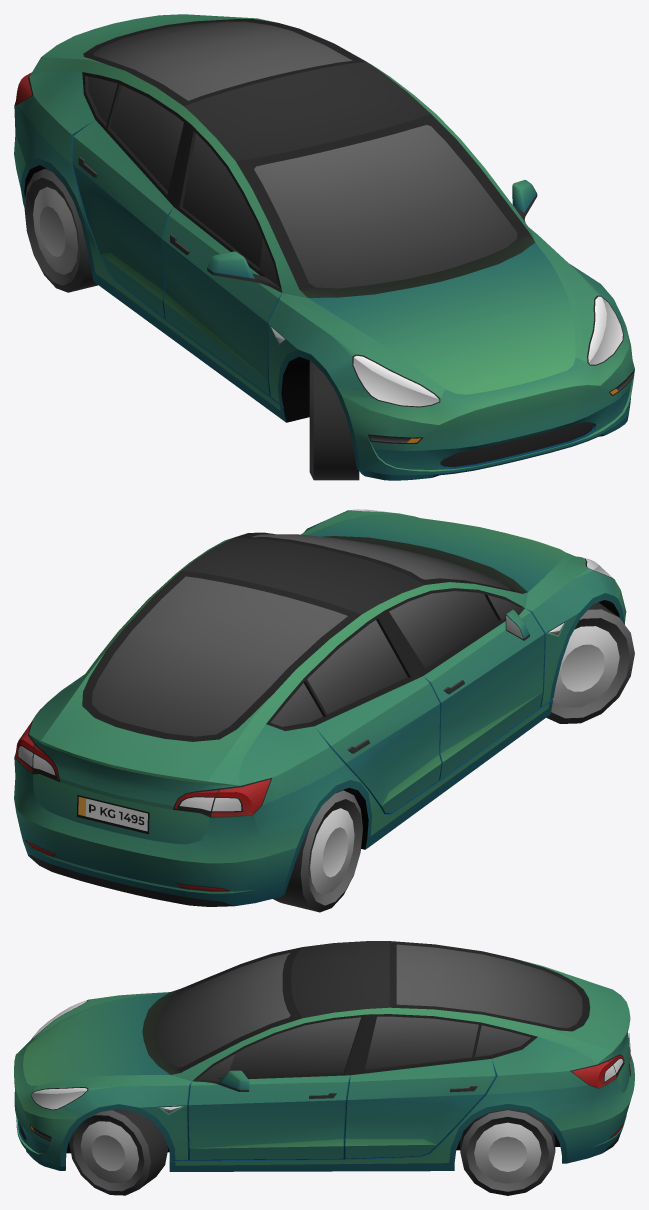
Rendered from tesla-model-3-thcyrax.glb.
3 renders of one model, top to bottom at view 1: azimuth 30°, elevation 25°; view 2: azimuth 150°, elevation 25°; view 3: azimuth 270°, elevation 25°, orthographic. The views are drawn at different scales.
Visible parts, largest first — view 1: Body.001, RRW.001, FRW.001; view 2: Body.001, FRW.001, RRW.001, Registration Plate.001; view 3: Body.001, RLW.001, FLW.001.
Boxes of the visible parts, <box> form: Body.001: <box>14,14,634,480</box>; RRW.001: <box>24,168,97,292</box>; FRW.001: <box>309,361,359,480</box>; Body.001: <box>14,509,626,906</box>; FRW.001: <box>546,602,634,723</box>; RRW.001: <box>273,790,362,912</box>; Registration Plate.001: <box>76,795,149,834</box>; Body.001: <box>14,941,634,1171</box>; RLW.001: <box>460,1109,555,1195</box>; FLW.001: <box>69,1109,167,1195</box>.
Bounding box in the file's own units: 212 × 143 × 463.
2 materials, 2 textured.
